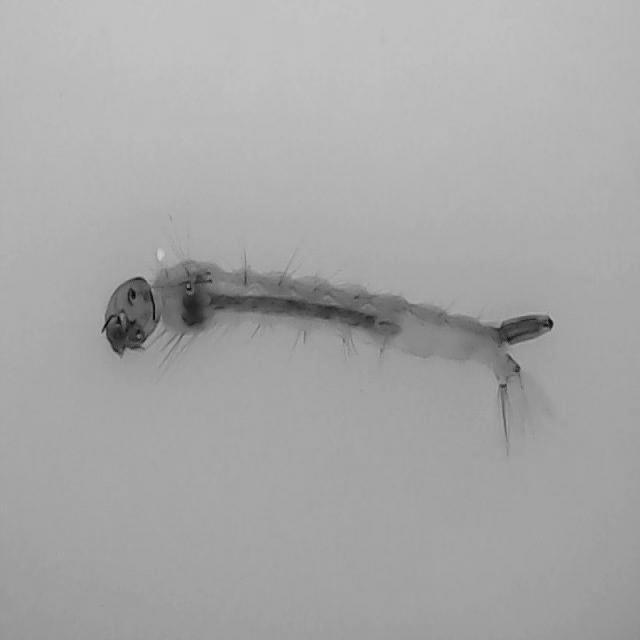larvas: (94, 263, 554, 402)
